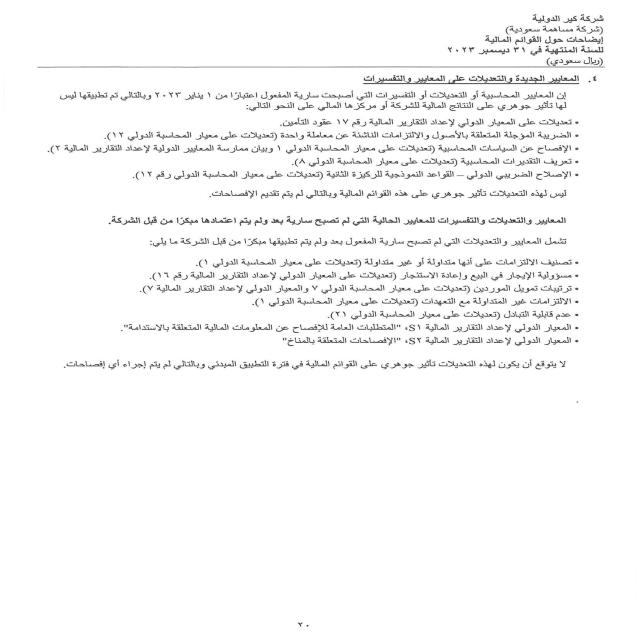notes: (474, 35, 607, 46)
text: (45, 75, 609, 386)
